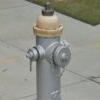Hydrant: (19, 1, 78, 100)
